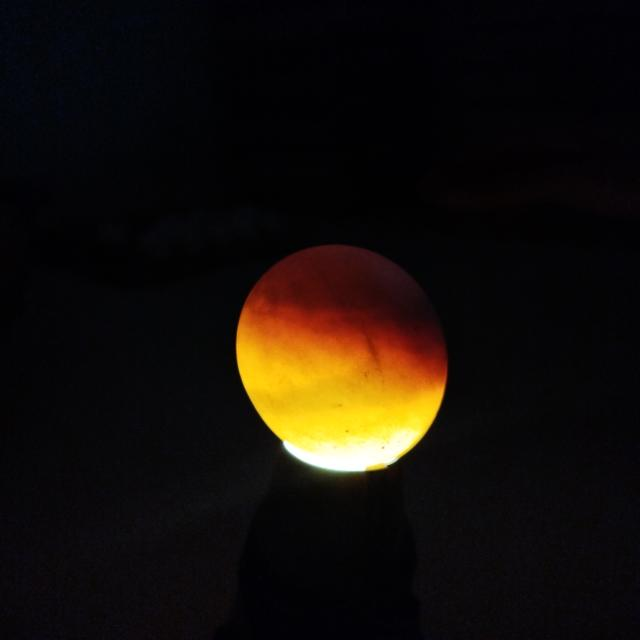Area Infectada: (258, 247, 442, 347)
